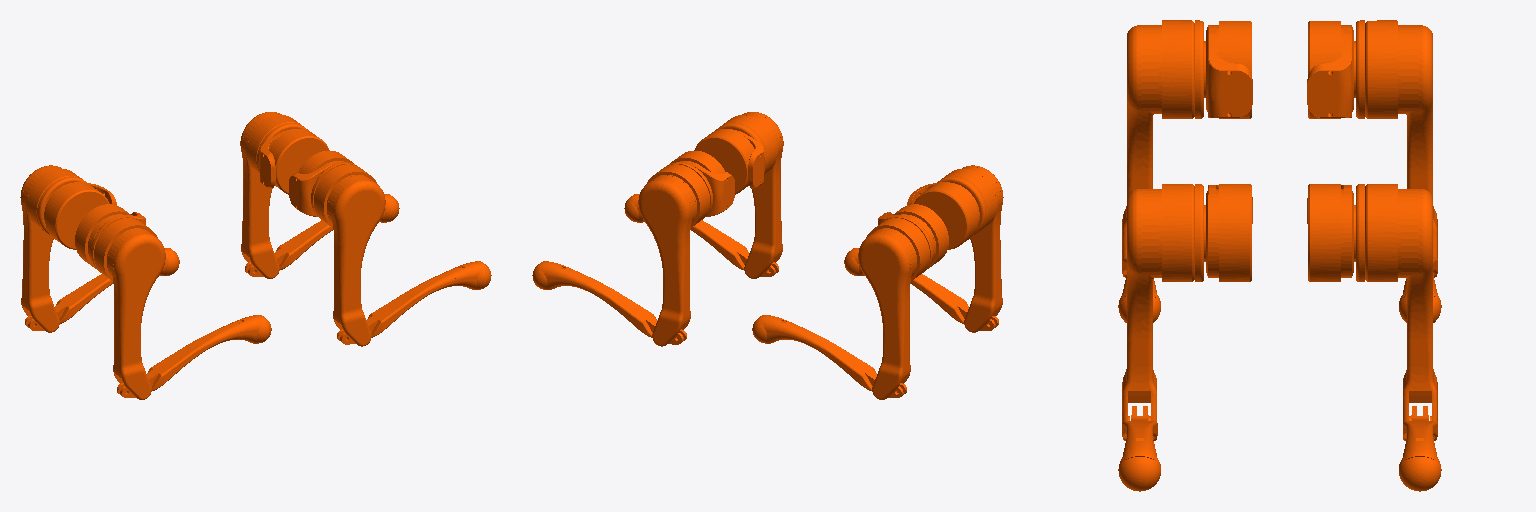
--- Facts derived from the render (not from the file) ---
Views: 3 orthographic renders of the robot side by side, from view 1: azimuth 30°, elevation 25°; view 2: azimuth 150°, elevation 25°; view 3: azimuth 270°, elevation 25°.
Model a1_description with 21 links and 20 joints (12 revolute, 8 fixed), rooted at trunk, posed all joints at 0 but 4 set to mid-range because 0 is outside their limits (FR_calf_joint = -1.81, FL_calf_joint = -1.81, RR_calf_joint = -1.81, RL_calf_joint = -1.81).
Links seen in each view (by area): view 1: RR_thigh, FR_thigh, RL_thigh, FL_thigh, FR_calf, RR_calf, FL_hip, RL_hip, FL_calf, RL_calf, FR_hip, RR_hip; view 2: RL_thigh, FL_thigh, RR_thigh, FR_thigh, FL_calf, RL_calf, FR_hip, RR_hip, FR_calf, RR_calf, FL_hip, RL_hip; view 3: FR_thigh, FL_thigh, RR_thigh, RL_thigh, FR_hip, FL_hip, RR_hip, RL_hip, FR_calf, FL_calf, RR_calf, RL_calf.
Link boxes in pixels (x1,y1,x2,y2): RR_thigh: (91,216,165,399); FR_thigh: (311,162,385,346); RL_thigh: (20,165,86,332); FL_thigh: (240,112,308,278); FR_calf: (337,261,491,344); RR_calf: (117,315,271,397); FL_hip: (259,129,329,194); RL_hip: (44,182,116,249); FL_calf: (245,194,399,276); RL_calf: (25,248,179,330); FR_hip: (289,151,353,216); RR_hip: (75,204,145,268); RL_thigh: (858,216,932,399); FL_thigh: (638,162,712,346); RR_thigh: (937,165,1003,332); FR_thigh: (715,112,783,278); FL_calf: (532,261,686,344); RL_calf: (752,315,906,397); FR_hip: (694,129,764,194); RR_hip: (907,182,979,249); FR_calf: (624,194,778,276); RR_calf: (844,248,998,330); FL_hip: (670,151,734,216); RL_hip: (878,204,948,268); FR_thigh: (1122,184,1205,440); FL_thigh: (1354,184,1437,440); RR_thigh: (1122,20,1205,277); RL_thigh: (1354,20,1437,277); FR_hip: (1206,184,1252,281); FL_hip: (1307,184,1353,281); RR_hip: (1206,21,1252,118); RL_hip: (1307,21,1353,118); FR_calf: (1118,406,1160,491); FL_calf: (1399,406,1441,491); RR_calf: (1118,257,1160,322); RL_calf: (1399,257,1441,322).
Bounding box of the posed robot: 0.6215 × 0.3016 × 0.2595 m (x, y, z).
Meshes: 5 distinct files referenced, 12 mesh visuals loaded (4 OBJ); not drawn: 1 (reference not matched to a file when rendering).

The robot description file, URDF, robot "a1_description":
<?xml version="1.0" encoding="utf-8"?>
<!-- =================================================================================== -->
<!-- |    This document was autogenerated by xacro from robot.xacro                    | -->
<!-- |    EDITING THIS FILE BY HAND IS NOT RECOMMENDED                                 | -->
<!-- =================================================================================== -->
<robot name="a1_description">
  <!-- dynamics inertial value -->
  <!-- trunk -->
  <!-- <xacro:property name="trunk_mass" value="5.660"/>
    <xacro:property name="trunk_com_x" value="0.012731"/>
    <xacro:property name="trunk_com_y" value="0.002186"/>
    <xacro:property name="trunk_com_z" value="0.000515"/>
    <xacro:property name="trunk_ixx" value="0.016839930"/>
    <xacro:property name="trunk_ixy" value="0.000083902"/>
    <xacro:property name="trunk_ixz" value="0.000597679"/>
    <xacro:property name="trunk_iyy" value="0.056579028"/>
    <xacro:property name="trunk_iyz" value="0.000025134"/>
    <xacro:property name="trunk_izz" value="0.064713601"/> -->
  <material name="black">
    <color rgba="0.0 0.0 0.0 1.0"/>
  </material>
  <material name="blue">
    <color rgba="0.0 0.0 0.8 1.0"/>
  </material>
  <material name="green">
    <color rgba="0.0 0.8 0.0 1.0"/>
  </material>
  <material name="grey">
    <color rgba="0.2 0.2 0.2 1.0"/>
  </material>
  <material name="silver">
    <color rgba="0.913725490196 0.913725490196 0.847058823529 1.0"/>
  </material>
  <material name="orange">
    <color rgba="1.0 0.423529411765 0.0392156862745 1.0"/>
  </material>
  <material name="brown">
    <color rgba="0.870588235294 0.811764705882 0.764705882353 1.0"/>
  </material>
  <material name="red">
    <color rgba="0.8 0.0 0.0 1.0"/>
  </material>
  <material name="white">
    <color rgba="1.0 1.0 1.0 1.0"/>
  </material>

  <!-- <xacro:include filename="$(find a1_gazebo)/launch/stairs.urdf.xacro"/> -->
  <!-- <xacro:stairs stairs="15" xpos="0" ypos="0" zpos="0" /> -->
  <!-- Debug mode will hung up the robot, use "true" or "false" to switch it. -->
  <!-- <xacro:if value="$(arg DEBUG)">
        <link name="world"/>
        <joint name="base_static_joint" type="fixed">
            <origin rpy="0 0 0" xyz="0 0 0"/>
            <parent link="world"/>
            <child link="base"/>
        </joint>
    </xacro:if>  -->
  <link name="trunk">
    <visual>
      <origin rpy="0 0 0" xyz="0 0 0"/>
      <geometry>
        <mesh filename="package://a1_description/meshes/trunk.obj" scale="1 1 1"/>
      </geometry>
      <material name="orange"/>
    </visual>
    <collision>
      <origin rpy="0 0 0" xyz="0 0 0"/>
      <geometry>
        <box size="0.267 0.194 0.114"/>
      </geometry>
    </collision>
    <inertial>
      <origin rpy="0 0 0" xyz="0.0 0.0041 -0.0005"/>
      <mass value="6.0"/>
      <inertia ixx="0.0158533" ixy="-3.66e-05" ixz="-6.11e-05" iyy="0.0377999" iyz="-2.75e-05" izz="0.0456542"/>
    </inertial>
  </link>
  <joint name="FR_hip_joint" type="revolute">
    <origin rpy="0 0 0" xyz="0.1805 -0.047 0"/>
    <parent link="trunk"/>
    <child link="FR_hip"/>
    <axis xyz="1 0 0"/>
    <dynamics damping="0.01" friction="0.0"/>
    <limit effort="33.5" lower="-0.802851455917" upper="0.802851455917" velocity="21"/>
  </joint>
  <link name="FR_hip">
    <visual>
      <origin rpy="3.14159265359 0 0" xyz="0 0 0"/>
      <geometry>
        <mesh filename="package://a1_description/meshes/hip.obj" scale="1 1 1"/>
      </geometry>
      <material name="orange"/>
    </visual>
    <collision>
      <origin rpy="1.57079632679 0 0" xyz="0 0 0"/>
      <geometry>
        <cylinder length="0.04" radius="0.046"/>
      </geometry>
    </collision>
    <inertial>
      <origin rpy="0 0 0" xyz="-0.003311 -0.000635 3.1e-05"/>
      <mass value="0.696"/>
      <inertia ixx="0.000469246" ixy="9.409e-06" ixz="-3.42e-07" iyy="0.00080749" iyz="4.66e-07" izz="0.000552929"/>
    </inertial>
  </link>
  <joint name="FR_hip_fixed" type="fixed">
    <origin rpy="0 0 0" xyz="0 -0.081 0"/>
    <parent link="FR_hip"/>
    <child link="FR_thigh_shoulder"/>
  </joint>
  <!-- this link is only for collision -->
  <link name="FR_thigh_shoulder">
    <collision>
      <origin rpy="1.57079632679 0 0" xyz="0 0 0"/>
      <geometry>
        <cylinder length="0.032" radius="0.041"/>
      </geometry>
    </collision>
  </link>
  <joint name="FR_thigh_joint" type="revolute">
    <origin rpy="0 0 0" xyz="0 -0.0838 0"/>
    <parent link="FR_hip"/>
    <child link="FR_thigh"/>
    <axis xyz="0 1 0"/>
    <dynamics damping="0.01" friction="0.0"/>
    <limit effort="33.5" lower="-1.0471975512" upper="4.18879020479" velocity="21"/>
  </joint>
  <link name="FR_thigh">
    <visual>
      <origin rpy="0 0 0" xyz="0 0 0"/>
      <geometry>
        <mesh filename="package://a1_description/meshes/thigh_mirror.obj" scale="1 1 1"/>
      </geometry>
      <material name="orange"/>
    </visual>
    <collision>
      <origin rpy="0 1.57079632679 0" xyz="0 0 -0.1"/>
      <geometry>
        <box size="0.2 0.0245 0.034"/>
      </geometry>
    </collision>
    <inertial>
      <origin rpy="0 0 0" xyz="-0.003237 0.022327 -0.027326"/>
      <mass value="1.013"/>
      <inertia ixx="0.005529065" ixy="-4.825e-06" ixz="0.000343869" iyy="0.005139339" iyz="-2.2448e-05" izz="0.001367788"/>
    </inertial>
  </link>
  <joint name="FR_calf_joint" type="revolute">
    <origin rpy="0 0 0" xyz="0 0 -0.2"/>
    <parent link="FR_thigh"/>
    <child link="FR_calf"/>
    <axis xyz="0 1 0"/>
    <dynamics damping="0.01" friction="0.0"/>
    <limit effort="33.5" lower="-2.69653369433" upper="-0.916297857297" velocity="21"/>
  </joint>
  <link name="FR_calf">
    <visual>
      <origin rpy="0 0 0" xyz="0 0 0"/>
      <geometry>
        <mesh filename="package://a1_description/meshes/calf.obj" scale="1 1 1"/>
      </geometry>
      <material name="orange"/>
    </visual>
    <collision>
      <origin rpy="0 1.57079632679 0" xyz="0 0 -0.1"/>
      <geometry>
        <box size="0.2 0.016 0.016"/>
      </geometry>
    </collision>
    <inertial>
      <origin rpy="0 0 0" xyz="0.006435 0.0 -0.107388"/>
      <mass value="0.166"/>
      <inertia ixx="0.002997972" ixy="0.0" ixz="-0.000141163" iyy="0.003014022" iyz="0.0" izz="3.2426e-05"/>
    </inertial>
  </link>
  <joint name="FR_foot_fixed" type="fixed">
    <origin rpy="0 0 0" xyz="0 0 -0.2"/>
    <parent link="FR_calf"/>
    <child link="FR_foot"/>
  </joint>
  <link name="FR_foot">
    <visual>
      <origin rpy="0 0 0" xyz="0 0 0"/>
      <geometry>
        <sphere radius="0.01"/>
      </geometry>
      <material name="orange"/>
    </visual>
    <collision>
      <origin rpy="0 0 0" xyz="0 0 0"/>
      <geometry>
        <sphere radius="0.02"/>
      </geometry>
    </collision>
    <inertial>
      <mass value="0.06"/>
      <inertia ixx="9.6e-06" ixy="0.0" ixz="0.0" iyy="9.6e-06" iyz="0.0" izz="9.6e-06"/>
    </inertial>
  </link>
<!--   <transmission name="FR_hip_tran">
    <type>transmission_interface/SimpleTransmission</type>
    <joint name="FR_hip_joint">
      <hardwareInterface>hardware_interface/EffortJointInterface</hardwareInterface>
    </joint>
    <actuator name="FR_hip_motor">
      <hardwareInterface>hardware_interface/EffortJointInterface</hardwareInterface>
      <mechanicalReduction>1</mechanicalReduction>
    </actuator>
  </transmission>
  <transmission name="FR_thigh_tran">
    <type>transmission_interface/SimpleTransmission</type>
    <joint name="FR_thigh_joint">
      <hardwareInterface>hardware_interface/EffortJointInterface</hardwareInterface>
    </joint>
    <actuator name="FR_thigh_motor">
      <hardwareInterface>hardware_interface/EffortJointInterface</hardwareInterface>
      <mechanicalReduction>1</mechanicalReduction>
    </actuator>
  </transmission>
  <transmission name="FR_calf_tran">
    <type>transmission_interface/SimpleTransmission</type>
    <joint name="FR_calf_joint">
      <hardwareInterface>hardware_interface/EffortJointInterface</hardwareInterface>
    </joint>
    <actuator name="FR_calf_motor">
      <hardwareInterface>hardware_interface/EffortJointInterface</hardwareInterface>
      <mechanicalReduction>1</mechanicalReduction>
    </actuator>
  </transmission> -->
  <joint name="FL_hip_joint" type="revolute">
    <origin rpy="0 0 0" xyz="0.1805 0.047 0"/>
    <parent link="trunk"/>
    <child link="FL_hip"/>
    <axis xyz="1 0 0"/>
    <dynamics damping="0.01" friction="0.0"/>
    <limit effort="33.5" lower="-0.802851455917" upper="0.802851455917" velocity="21"/>
  </joint>
  <link name="FL_hip">
    <visual>
      <origin rpy="0 0 0" xyz="0 0 0"/>
      <geometry>
        <mesh filename="package://a1_description/meshes/hip.obj" scale="1 1 1"/>
      </geometry>
      <material name="orange"/>
    </visual>
    <collision>
      <origin rpy="1.57079632679 0 0" xyz="0 0 0"/>
      <geometry>
        <cylinder length="0.04" radius="0.046"/>
      </geometry>
    </collision>
    <inertial>
      <origin rpy="0 0 0" xyz="-0.003311 0.000635 3.1e-05"/>
      <mass value="0.696"/>
      <inertia ixx="0.000469246" ixy="-9.409e-06" ixz="-3.42e-07" iyy="0.00080749" iyz="-4.66e-07" izz="0.000552929"/>
    </inertial>
  </link>
  <joint name="FL_hip_fixed" type="fixed">
    <origin rpy="0 0 0" xyz="0 0.081 0"/>
    <parent link="FL_hip"/>
    <child link="FL_thigh_shoulder"/>
  </joint>
  <!-- this link is only for collision -->
  <link name="FL_thigh_shoulder">
    <collision>
      <origin rpy="1.57079632679 0 0" xyz="0 0 0"/>
      <geometry>
        <cylinder length="0.032" radius="0.041"/>
      </geometry>
    </collision>
  </link>
  <joint name="FL_thigh_joint" type="revolute">
    <origin rpy="0 0 0" xyz="0 0.0838 0"/>
    <parent link="FL_hip"/>
    <child link="FL_thigh"/>
    <axis xyz="0 1 0"/>
    <dynamics damping="0.01" friction="0.0"/>
    <limit effort="33.5" lower="-1.0471975512" upper="4.18879020479" velocity="21"/>
  </joint>
  <link name="FL_thigh">
    <visual>
      <origin rpy="0 0 0" xyz="0 0 0"/>
      <geometry>
        <mesh filename="package://a1_description/meshes/thigh.obj" scale="1 1 1"/>
      </geometry>
      <material name="orange"/>
    </visual>
    <collision>
      <origin rpy="0 1.57079632679 0" xyz="0 0 -0.1"/>
      <geometry>
        <box size="0.2 0.0245 0.034"/>
      </geometry>
    </collision>
    <inertial>
      <origin rpy="0 0 0" xyz="-0.003237 -0.022327 -0.027326"/>
      <mass value="1.013"/>
      <inertia ixx="0.005529065" ixy="4.825e-06" ixz="0.000343869" iyy="0.005139339" iyz="2.2448e-05" izz="0.001367788"/>
    </inertial>
  </link>
  <joint name="FL_calf_joint" type="revolute">
    <origin rpy="0 0 0" xyz="0 0 -0.2"/>
    <parent link="FL_thigh"/>
    <child link="FL_calf"/>
    <axis xyz="0 1 0"/>
    <dynamics damping="0.01" friction="0.0"/>
    <limit effort="33.5" lower="-2.69653369433" upper="-0.916297857297" velocity="21"/>
  </joint>
  <link name="FL_calf">
    <visual>
      <origin rpy="0 0 0" xyz="0 0 0"/>
      <geometry>
        <mesh filename="package://a1_description/meshes/calf.obj" scale="1 1 1"/>
      </geometry>
      <material name="orange"/>
    </visual>
    <collision>
      <origin rpy="0 1.57079632679 0" xyz="0 0 -0.1"/>
      <geometry>
        <box size="0.2 0.016 0.016"/>
      </geometry>
    </collision>
    <inertial>
      <origin rpy="0 0 0" xyz="0.006435 0.0 -0.107388"/>
      <mass value="0.166"/>
      <inertia ixx="0.002997972" ixy="0.0" ixz="-0.000141163" iyy="0.003014022" iyz="0.0" izz="3.2426e-05"/>
    </inertial>
  </link>
  <joint name="FL_foot_fixed" type="fixed">
    <origin rpy="0 0 0" xyz="0 0 -0.2"/>
    <parent link="FL_calf"/>
    <child link="FL_foot"/>
  </joint>
  <link name="FL_foot">
    <visual>
      <origin rpy="0 0 0" xyz="0 0 0"/>
      <geometry>
        <sphere radius="0.01"/>
      </geometry>
      <material name="orange"/>
    </visual>
    <collision>
      <origin rpy="0 0 0" xyz="0 0 0"/>
      <geometry>
        <sphere radius="0.02"/>
      </geometry>
    </collision>
    <inertial>
      <mass value="0.06"/>
      <inertia ixx="9.6e-06" ixy="0.0" ixz="0.0" iyy="9.6e-06" iyz="0.0" izz="9.6e-06"/>
    </inertial>
  </link>
<!--   <transmission name="FL_hip_tran">
    <type>transmission_interface/SimpleTransmission</type>
    <joint name="FL_hip_joint">
      <hardwareInterface>hardware_interface/EffortJointInterface</hardwareInterface>
    </joint>
    <actuator name="FL_hip_motor">
      <hardwareInterface>hardware_interface/EffortJointInterface</hardwareInterface>
      <mechanicalReduction>1</mechanicalReduction>
    </actuator>
  </transmission>
  <transmission name="FL_thigh_tran">
    <type>transmission_interface/SimpleTransmission</type>
    <joint name="FL_thigh_joint">
      <hardwareInterface>hardware_interface/EffortJointInterface</hardwareInterface>
    </joint>
    <actuator name="FL_thigh_motor">
      <hardwareInterface>hardware_interface/EffortJointInterface</hardwareInterface>
      <mechanicalReduction>1</mechanicalReduction>
    </actuator>
  </transmission>
  <transmission name="FL_calf_tran">
    <type>transmission_interface/SimpleTransmission</type>
    <joint name="FL_calf_joint">
      <hardwareInterface>hardware_interface/EffortJointInterface</hardwareInterface>
    </joint>
    <actuator name="FL_calf_motor">
      <hardwareInterface>hardware_interface/EffortJointInterface</hardwareInterface>
      <mechanicalReduction>1</mechanicalReduction>
    </actuator>
  </transmission> -->
  <joint name="RR_hip_joint" type="revolute">
    <origin rpy="0 0 0" xyz="-0.1805 -0.047 0"/>
    <parent link="trunk"/>
    <child link="RR_hip"/>
    <axis xyz="1 0 0"/>
    <dynamics damping="0.01" friction="0.0"/>
    <limit effort="33.5" lower="-0.802851455917" upper="0.802851455917" velocity="21"/>
  </joint>
  <link name="RR_hip">
    <visual>
      <origin rpy="3.14159265359 3.14159265359 0" xyz="0 0 0"/>
      <geometry>
        <mesh filename="package://a1_description/meshes/hip.obj" scale="1 1 1"/>
      </geometry>
      <material name="orange"/>
    </visual>
    <collision>
      <origin rpy="1.57079632679 0 0" xyz="0 0 0"/>
      <geometry>
        <cylinder length="0.04" radius="0.046"/>
      </geometry>
    </collision>
    <inertial>
      <origin rpy="0 0 0" xyz="0.003311 -0.000635 3.1e-05"/>
      <mass value="0.696"/>
      <inertia ixx="0.000469246" ixy="-9.409e-06" ixz="3.42e-07" iyy="0.00080749" iyz="4.66e-07" izz="0.000552929"/>
    </inertial>
  </link>
  <joint name="RR_hip_fixed" type="fixed">
    <origin rpy="0 0 0" xyz="0 -0.081 0"/>
    <parent link="RR_hip"/>
    <child link="RR_thigh_shoulder"/>
  </joint>
  <!-- this link is only for collision -->
  <link name="RR_thigh_shoulder">
    <collision>
      <origin rpy="1.57079632679 0 0" xyz="0 0 0"/>
      <geometry>
        <cylinder length="0.032" radius="0.041"/>
      </geometry>
    </collision>
  </link>
  <joint name="RR_thigh_joint" type="revolute">
    <origin rpy="0 0 0" xyz="0 -0.0838 0"/>
    <parent link="RR_hip"/>
    <child link="RR_thigh"/>
    <axis xyz="0 1 0"/>
    <dynamics damping="0.01" friction="0.0"/>
    <limit effort="33.5" lower="-1.0471975512" upper="4.18879020479" velocity="21"/>
  </joint>
  <link name="RR_thigh">
    <visual>
      <origin rpy="0 0 0" xyz="0 0 0"/>
      <geometry>
        <mesh filename="package://a1_description/meshes/thigh_mirror.obj" scale="1 1 1"/>
      </geometry>
      <material name="orange"/>
    </visual>
    <collision>
      <origin rpy="0 1.57079632679 0" xyz="0 0 -0.1"/>
      <geometry>
        <box size="0.2 0.0245 0.034"/>
      </geometry>
    </collision>
    <inertial>
      <origin rpy="0 0 0" xyz="-0.003237 0.022327 -0.027326"/>
      <mass value="1.013"/>
      <inertia ixx="0.005529065" ixy="-4.825e-06" ixz="0.000343869" iyy="0.005139339" iyz="-2.2448e-05" izz="0.001367788"/>
    </inertial>
  </link>
  <joint name="RR_calf_joint" type="revolute">
    <origin rpy="0 0 0" xyz="0 0 -0.2"/>
    <parent link="RR_thigh"/>
    <child link="RR_calf"/>
    <axis xyz="0 1 0"/>
    <dynamics damping="0.01" friction="0.0"/>
    <limit effort="33.5" lower="-2.69653369433" upper="-0.916297857297" velocity="21"/>
  </joint>
  <link name="RR_calf">
    <visual>
      <origin rpy="0 0 0" xyz="0 0 0"/>
      <geometry>
        <mesh filename="package://a1_description/meshes/calf.obj" scale="1 1 1"/>
      </geometry>
      <material name="orange"/>
    </visual>
    <collision>
      <origin rpy="0 1.57079632679 0" xyz="0 0 -0.1"/>
      <geometry>
        <box size="0.2 0.016 0.016"/>
      </geometry>
    </collision>
    <inertial>
      <origin rpy="0 0 0" xyz="0.006435 0.0 -0.107388"/>
      <mass value="0.166"/>
      <inertia ixx="0.002997972" ixy="0.0" ixz="-0.000141163" iyy="0.003014022" iyz="0.0" izz="3.2426e-05"/>
    </inertial>
  </link>
  <joint name="RR_foot_fixed" type="fixed">
    <origin rpy="0 0 0" xyz="0 0 -0.2"/>
    <parent link="RR_calf"/>
    <child link="RR_foot"/>
  </joint>
  <link name="RR_foot">
    <visual>
      <origin rpy="0 0 0" xyz="0 0 0"/>
      <geometry>
        <sphere radius="0.01"/>
      </geometry>
      <material name="orange"/>
    </visual>
    <collision>
      <origin rpy="0 0 0" xyz="0 0 0"/>
      <geometry>
        <sphere radius="0.02"/>
      </geometry>
    </collision>
    <inertial>
      <mass value="0.06"/>
      <inertia ixx="9.6e-06" ixy="0.0" ixz="0.0" iyy="9.6e-06" iyz="0.0" izz="9.6e-06"/>
    </inertial>
  </link>
<!--   <transmission name="RR_hip_tran">
    <type>transmission_interface/SimpleTransmission</type>
    <joint name="RR_hip_joint">
      <hardwareInterface>hardware_interface/EffortJointInterface</hardwareInterface>
    </joint>
    <actuator name="RR_hip_motor">
      <hardwareInterface>hardware_interface/EffortJointInterface</hardwareInterface>
      <mechanicalReduction>1</mechanicalReduction>
    </actuator>
  </transmission>
  <transmission name="RR_thigh_tran">
    <type>transmission_interface/SimpleTransmission</type>
    <joint name="RR_thigh_joint">
      <hardwareInterface>hardware_interface/EffortJointInterface</hardwareInterface>
    </joint>
    <actuator name="RR_thigh_motor">
      <hardwareInterface>hardware_interface/EffortJointInterface</hardwareInterface>
      <mechanicalReduction>1</mechanicalReduction>
    </actuator>
  </transmission>
  <transmission name="RR_calf_tran">
    <type>transmission_interface/SimpleTransmission</type>
    <joint name="RR_calf_joint">
      <hardwareInterface>hardware_interface/EffortJointInterface</hardwareInterface>
    </joint>
    <actuator name="RR_calf_motor">
      <hardwareInterface>hardware_interface/EffortJointInterface</hardwareInterface>
      <mechanicalReduction>1</mechanicalReduction>
    </actuator>
  </transmission> -->
  <joint name="RL_hip_joint" type="revolute">
    <origin rpy="0 0 0" xyz="-0.1805 0.047 0"/>
    <parent link="trunk"/>
    <child link="RL_hip"/>
    <axis xyz="1 0 0"/>
    <dynamics damping="0.01" friction="0.0"/>
    <limit effort="33.5" lower="-0.802851455917" upper="0.802851455917" velocity="21"/>
  </joint>
  <link name="RL_hip">
    <visual>
      <origin rpy="0 3.14159265359 0" xyz="0 0 0"/>
      <geometry>
        <mesh filename="package://a1_description/meshes/hip.obj" scale="1 1 1"/>
      </geometry>
      <material name="orange"/>
    </visual>
    <collision>
      <origin rpy="1.57079632679 0 0" xyz="0 0 0"/>
      <geometry>
        <cylinder length="0.04" radius="0.046"/>
      </geometry>
    </collision>
    <inertial>
      <origin rpy="0 0 0" xyz="0.003311 0.000635 3.1e-05"/>
      <mass value="0.696"/>
      <inertia ixx="0.000469246" ixy="9.409e-06" ixz="3.42e-07" iyy="0.00080749" iyz="-4.66e-07" izz="0.000552929"/>
    </inertial>
  </link>
  <joint name="RL_hip_fixed" type="fixed">
    <origin rpy="0 0 0" xyz="0 0.081 0"/>
    <parent link="RL_hip"/>
    <child link="RL_thigh_shoulder"/>
  </joint>
  <!-- this link is only for collision -->
  <link name="RL_thigh_shoulder">
    <collision>
      <origin rpy="1.57079632679 0 0" xyz="0 0 0"/>
      <geometry>
        <cylinder length="0.032" radius="0.041"/>
      </geometry>
    </collision>
  </link>
  <joint name="RL_thigh_joint" type="revolute">
    <origin rpy="0 0 0" xyz="0 0.0838 0"/>
    <parent link="RL_hip"/>
    <child link="RL_thigh"/>
    <axis xyz="0 1 0"/>
    <dynamics damping="0.01" friction="0.0"/>
    <limit effort="33.5" lower="-1.0471975512" upper="4.18879020479" velocity="21"/>
  </joint>
  <link name="RL_thigh">
    <visual>
      <origin rpy="0 0 0" xyz="0 0 0"/>
      <geometry>
        <mesh filename="package://a1_description/meshes/thigh.obj" scale="1 1 1"/>
      </geometry>
      <material name="orange"/>
    </visual>
    <collision>
      <origin rpy="0 1.57079632679 0" xyz="0 0 -0.1"/>
      <geometry>
        <box size="0.2 0.0245 0.034"/>
      </geometry>
    </collision>
    <inertial>
      <origin rpy="0 0 0" xyz="-0.003237 -0.022327 -0.027326"/>
      <mass value="1.013"/>
      <inertia ixx="0.005529065" ixy="4.825e-06" ixz="0.000343869" iyy="0.005139339" iyz="2.2448e-05" izz="0.001367788"/>
    </inertial>
  </link>
  <joint name="RL_calf_joint" type="revolute">
    <origin rpy="0 0 0" xyz="0 0 -0.2"/>
    <parent link="RL_thigh"/>
    <child link="RL_calf"/>
    <axis xyz="0 1 0"/>
    <dynamics damping="0.01" friction="0.0"/>
    <limit effort="33.5" lower="-2.69653369433" upper="-0.916297857297" velocity="21"/>
  </joint>
  <link name="RL_calf">
    <visual>
      <origin rpy="0 0 0" xyz="0 0 0"/>
      <geometry>
        <mesh filename="package://a1_description/meshes/calf.obj" scale="1 1 1"/>
      </geometry>
      <material name="orange"/>
    </visual>
    <collision>
      <origin rpy="0 1.57079632679 0" xyz="0 0 -0.1"/>
      <geometry>
        <box size="0.2 0.016 0.016"/>
      </geometry>
    </collision>
    <inertial>
      <origin rpy="0 0 0" xyz="0.006435 0.0 -0.107388"/>
      <mass value="0.166"/>
      <inertia ixx="0.002997972" ixy="0.0" ixz="-0.000141163" iyy="0.003014022" iyz="0.0" izz="3.2426e-05"/>
    </inertial>
  </link>
  <joint name="RL_foot_fixed" type="fixed">
    <origin rpy="0 0 0" xyz="0 0 -0.2"/>
    <parent link="RL_calf"/>
    <child link="RL_foot"/>
  </joint>
  <link name="RL_foot">
    <visual>
      <origin rpy="0 0 0" xyz="0 0 0"/>
      <geometry>
        <sphere radius="0.01"/>
      </geometry>
      <material name="orange"/>
    </visual>
    <collision>
      <origin rpy="0 0 0" xyz="0 0 0"/>
      <geometry>
        <sphere radius="0.02"/>
      </geometry>
    </collision>
    <inertial>
      <mass value="0.06"/>
      <inertia ixx="9.6e-06" ixy="0.0" ixz="0.0" iyy="9.6e-06" iyz="0.0" izz="9.6e-06"/>
    </inertial>
  </link>
<!--   <transmission name="RL_hip_tran">
    <type>transmission_interface/SimpleTransmission</type>
    <joint name="RL_hip_joint">
      <hardwareInterface>hardware_interface/EffortJointInterface</hardwareInterface>
    </joint>
    <actuator name="RL_hip_motor">
      <hardwareInterface>hardware_interface/EffortJointInterface</hardwareInterface>
      <mechanicalReduction>1</mechanicalReduction>
    </actuator>
  </transmission>
  <transmission name="RL_thigh_tran">
    <type>transmission_interface/SimpleTransmission</type>
    <joint name="RL_thigh_joint">
      <hardwareInterface>hardware_interface/EffortJointInterface</hardwareInterface>
    </joint>
    <actuator name="RL_thigh_motor">
      <hardwareInterface>hardware_interface/EffortJointInterface</hardwareInterface>
      <mechanicalReduction>1</mechanicalReduction>
    </actuator>
  </transmission>
  <transmission name="RL_calf_tran">
    <type>transmission_interface/SimpleTransmission</type>
    <joint name="RL_calf_joint">
      <hardwareInterface>hardware_interface/EffortJointInterface</hardwareInterface>
    </joint>
    <actuator name="RL_calf_motor">
      <hardwareInterface>hardware_interface/EffortJointInterface</hardwareInterface>
      <mechanicalReduction>1</mechanicalReduction>
    </actuator>
  </transmission> -->
  <!-- <xacro:stairs stairs="15" xpos="0" ypos="2.0" zpos="0" /> -->
</robot>
